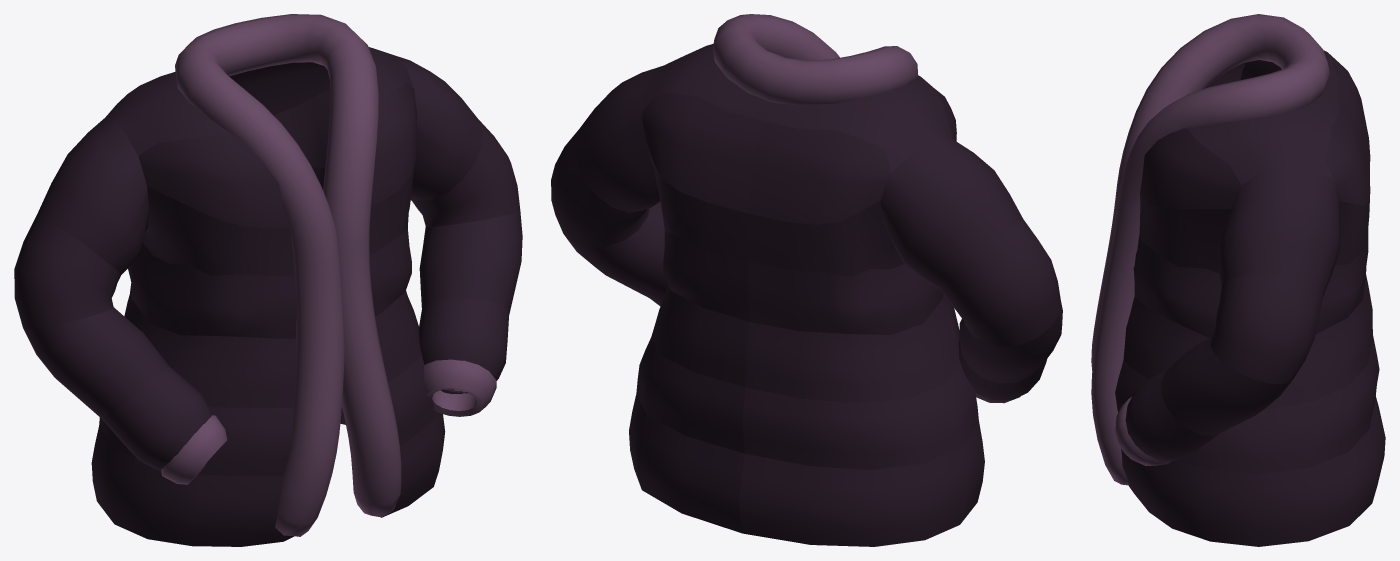
File: jacket_black.fbx
3 renders of one model, left to right at view 1: azimuth 30°, elevation 25°; view 2: azimuth 150°, elevation 25°; view 3: azimuth 270°, elevation 25°, orthographic. The views are drawn at different scales.
Visible parts, largest first — view 1: jacket_2_black; view 2: jacket_2_black; view 3: jacket_2_black.
Boxes of the visible parts, bbox=[...] form: jacket_2_black: bbox=[14, 14, 522, 546]; jacket_2_black: bbox=[551, 14, 1062, 546]; jacket_2_black: bbox=[1091, 14, 1385, 546].
Size of the model in its own units: 0.6464 by 0.3527 by 0.5678.
